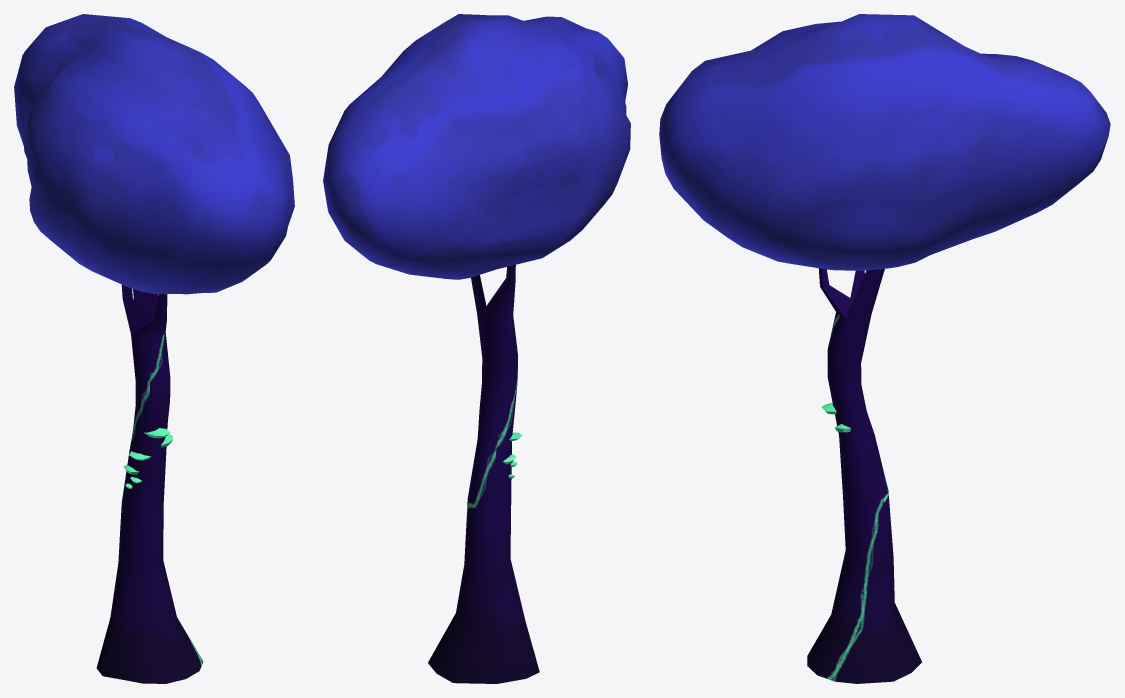
The model's file is Tree2.fbx.
3 renders of one model, left to right at view 1: azimuth 30°, elevation 25°; view 2: azimuth 150°, elevation 25°; view 3: azimuth 270°, elevation 25°, orthographic. The views are drawn at different scales.
Parts seen in each view (by area): view 1: pCylinder3; view 2: pCylinder3; view 3: pCylinder3.
Part boxes in pixels (x1,y1,x2,y2): pCylinder3: (14, 14, 294, 683); pCylinder3: (323, 14, 630, 683); pCylinder3: (659, 14, 1110, 683).
Size of the model in its own units: 2.04 by 5.48 by 3.49.
